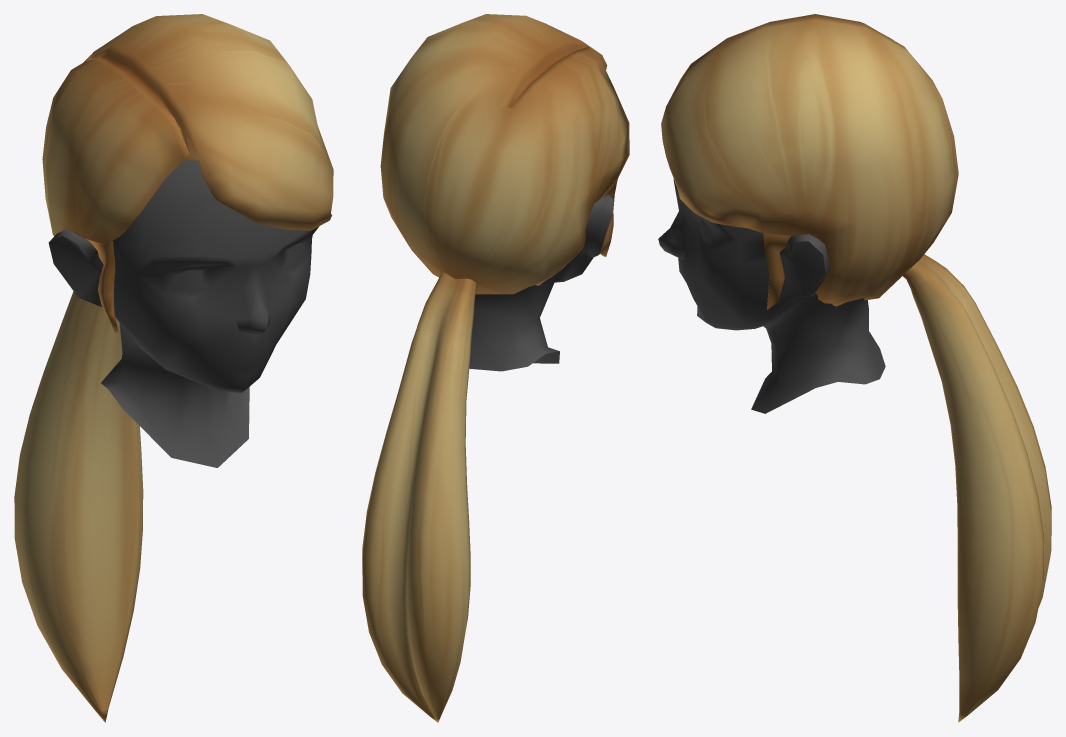
Rendered from doki-smart-pony-tail.glb.
3 renders of one model, left to right at view 1: azimuth 30°, elevation 25°; view 2: azimuth 150°, elevation 25°; view 3: azimuth 270°, elevation 25°, orthographic. The views are drawn at different scales.
Visible parts, largest first — view 1: Smart Pony Tail, Head_BaseMesh; view 2: Smart Pony Tail, Head_BaseMesh; view 3: Smart Pony Tail, Head_BaseMesh.
Part boxes in pixels (x1,y1,x2,y2): Smart Pony Tail: (14,14,333,722); Head_BaseMesh: (48,160,319,467); Smart Pony Tail: (362,14,629,722); Head_BaseMesh: (469,194,613,371); Smart Pony Tail: (661,14,1051,722); Head_BaseMesh: (658,179,885,413).
Size of the model in its own units: 0.6128 by 1.68 by 0.8526.
Materials: 3 (3 with a texture image).
